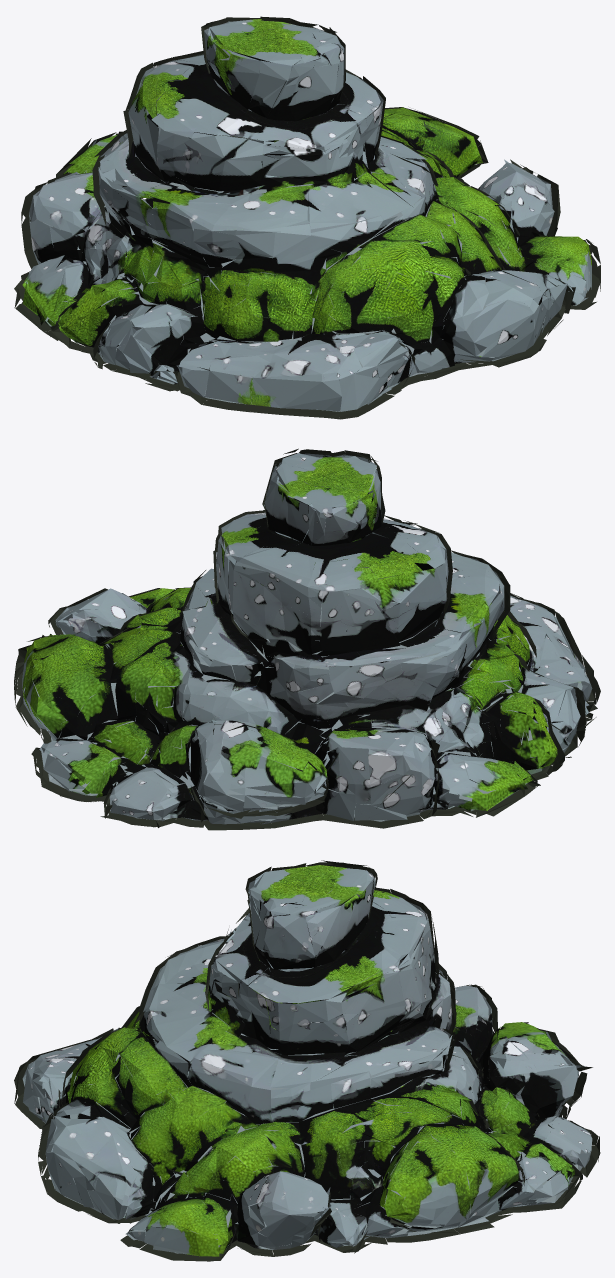
Rendered from df_v2_rock_moss_cluster_b_a.glb.
3 renders of one model, top to bottom at view 1: azimuth 30°, elevation 25°; view 2: azimuth 150°, elevation 25°; view 3: azimuth 270°, elevation 25°, orthographic. The views are drawn at different scales.
Visible parts, largest first — view 1: rock_moss_cluster_b_mesh_01, rock_moss_cluster_b_mesh_01_ink_outline; view 2: rock_moss_cluster_b_mesh_01, rock_moss_cluster_b_mesh_01_ink_outline; view 3: rock_moss_cluster_b_mesh_01, rock_moss_cluster_b_mesh_01_ink_outline.
Boxes of the visible parts, x1,y1,x2,y2 form: rock_moss_cluster_b_mesh_01: (22,19,591,411); rock_moss_cluster_b_mesh_01_ink_outline: (14,16,600,419); rock_moss_cluster_b_mesh_01: (22,453,592,824); rock_moss_cluster_b_mesh_01_ink_outline: (14,448,600,830); rock_moss_cluster_b_mesh_01: (22,865,592,1256); rock_moss_cluster_b_mesh_01_ink_outline: (14,860,600,1261).
Size of the model in its own units: 1 by 0.4958 by 1.03.
Materials: 2 (1 with a texture image).
